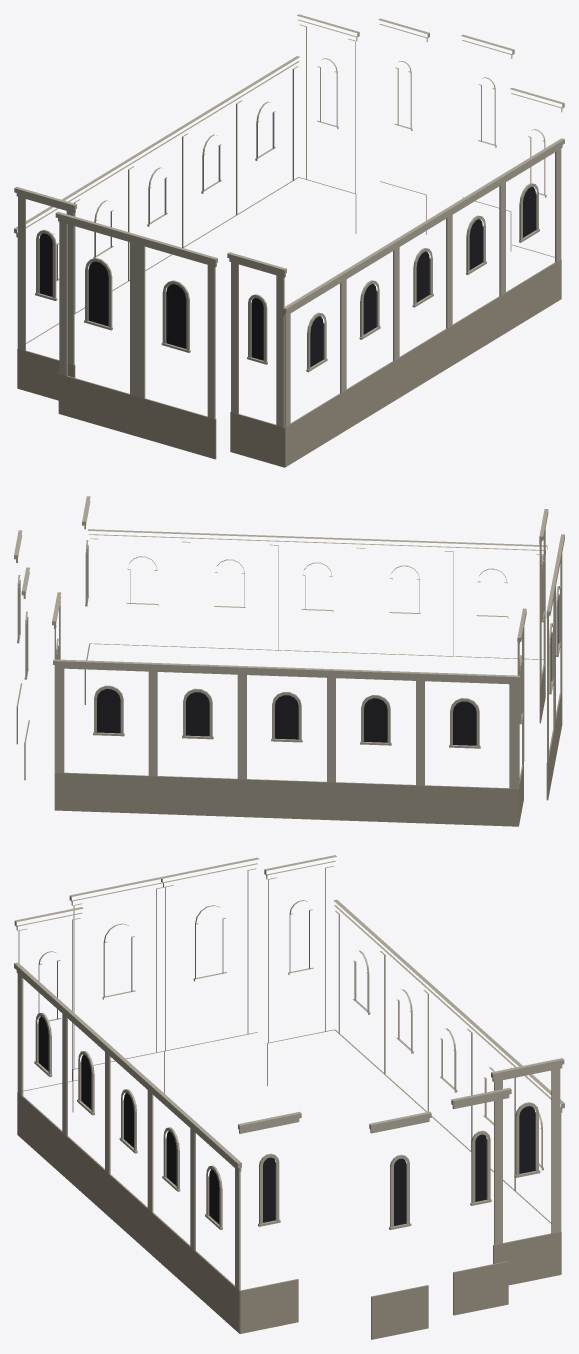
The picture shows the model from 3 angles, top to bottom: view 1: azimuth 30°, elevation 25°; view 2: azimuth 150°, elevation 25°; view 3: azimuth 270°, elevation 25°; orthographic projection. The views are drawn at different scales.
Visible parts, largest first — view 1: detail; view 2: detail; view 3: detail.
Boxes of the visible parts, x1=… form: detail: x1=14, y1=14, x2=564, y2=467; detail: x1=14, y1=496, x2=564, y2=826; detail: x1=14, y1=855, x2=564, y2=1339.
Bounding box in the file's own units: 37.76 × 14.05 × 32.49.
